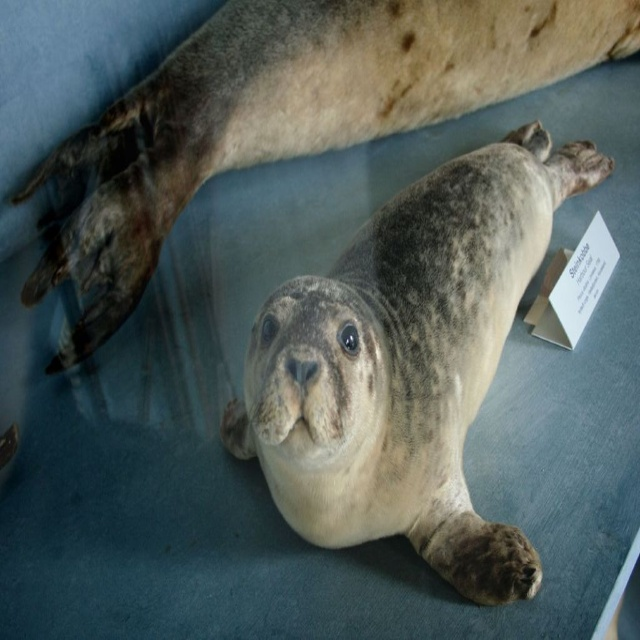Harbor seal: (6, 0, 640, 383), (218, 113, 615, 613)
